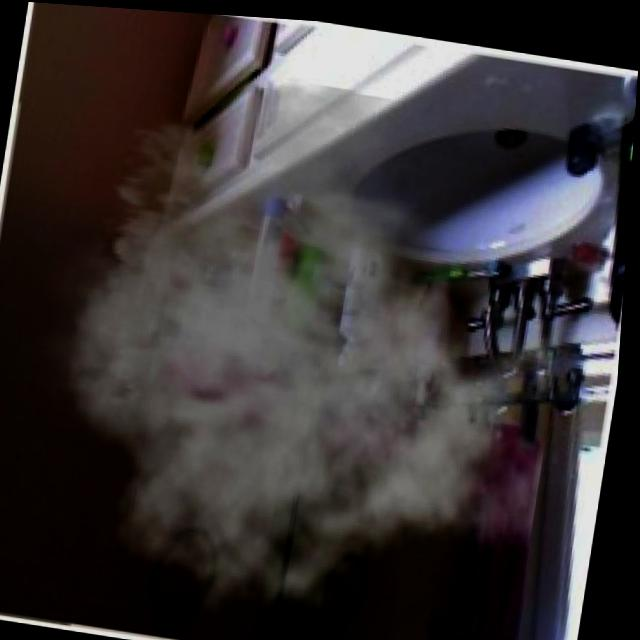Smoke: (0, 40, 594, 640)
